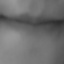Non-MouthFatigue: (1, 5, 64, 42)
